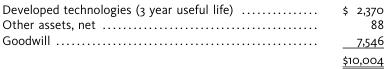table: (1, 1, 382, 66)
table column: (1, 1, 287, 66), (287, 1, 382, 66)
table row: (1, 32, 382, 49), (1, 49, 382, 66), (1, 16, 382, 32), (1, 1, 382, 16)
